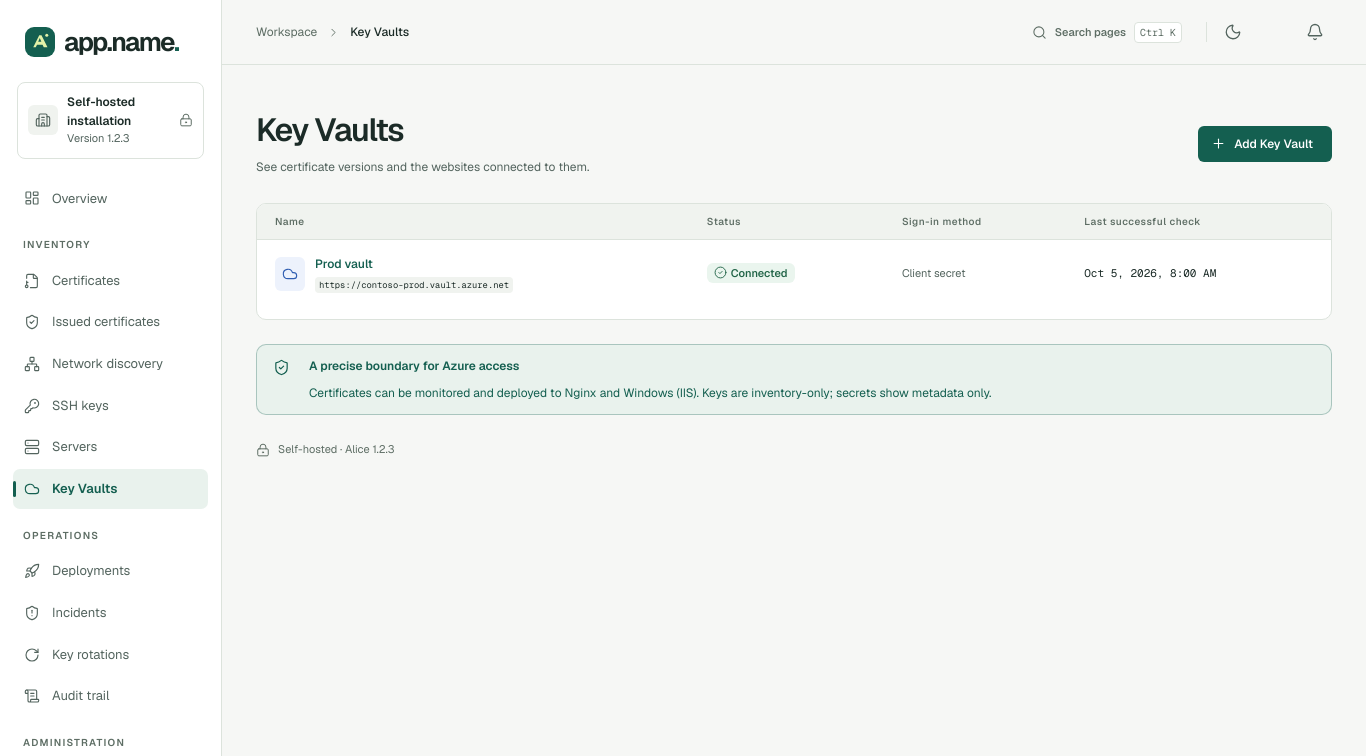
KeyVaultsPage › opens the add dialog and the new vault page after adding
Click the button "Add Key Vault": (1265, 144) top-left (1198, 126), bottom-right (1332, 162)
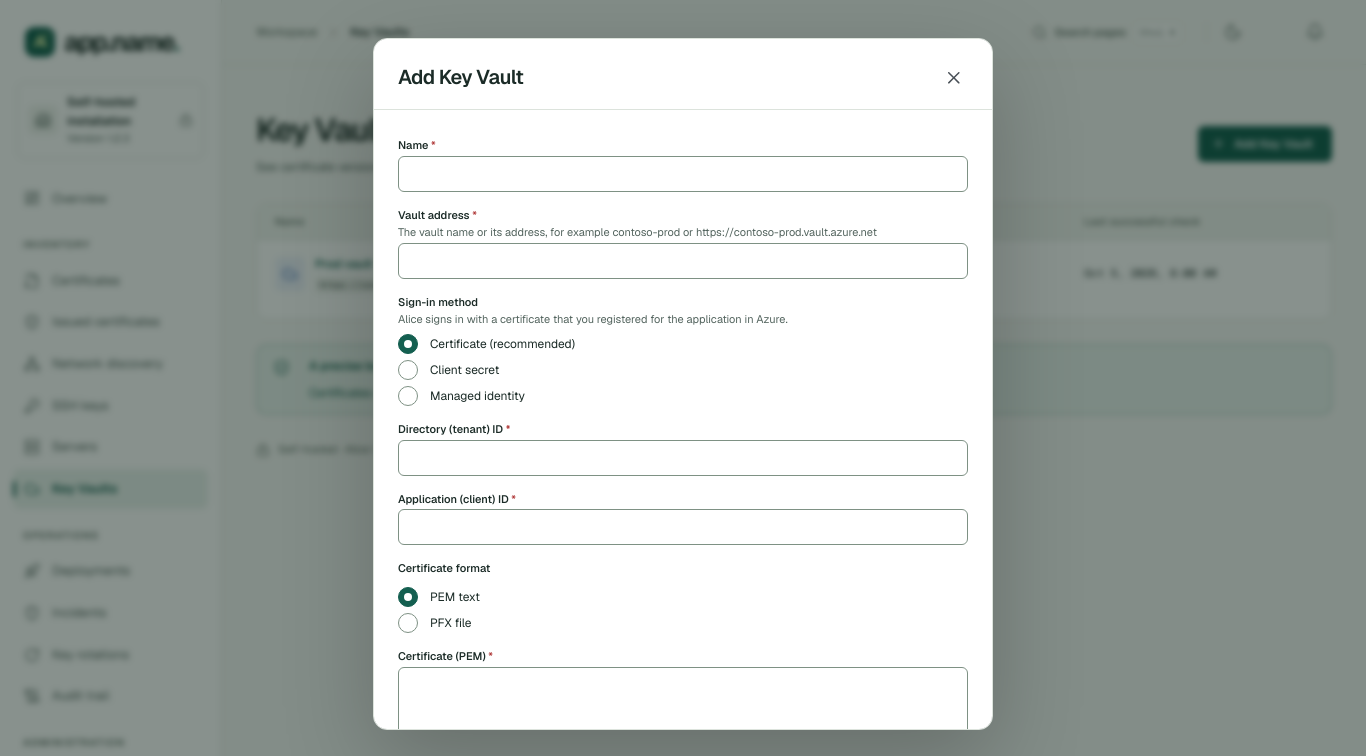
In the field labelled "Name *": (683, 174) top-left (398, 156), bottom-right (968, 192), type "Prod vault"
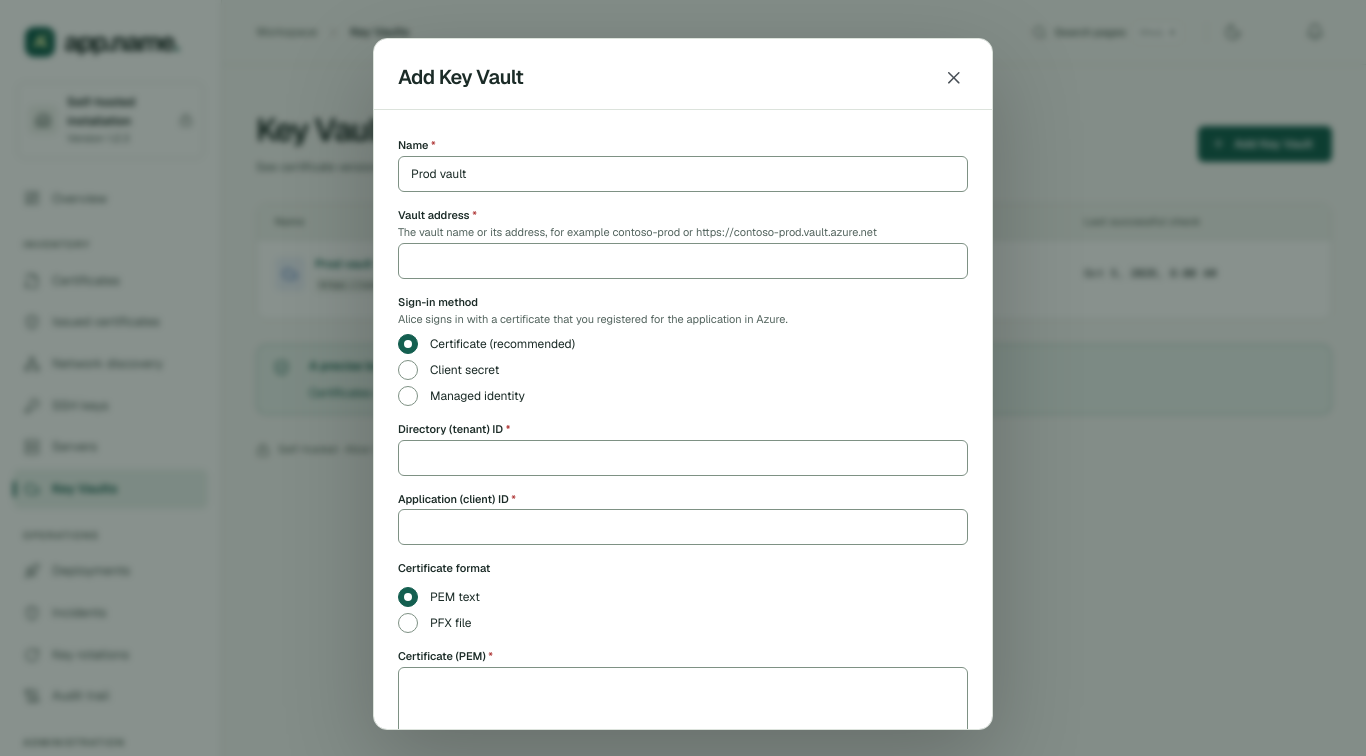
In the field labelled "Vault address *": (683, 261) top-left (398, 243), bottom-right (968, 279), type "contoso-prod"
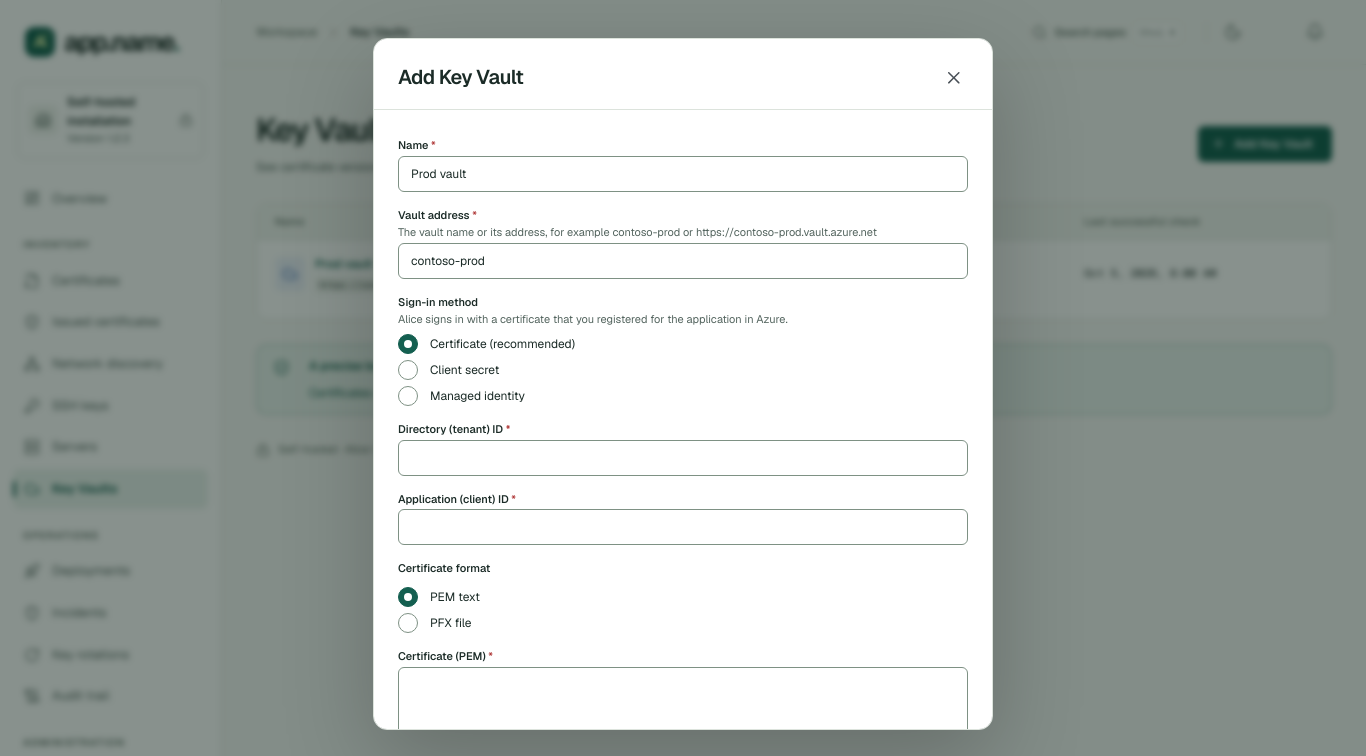
Click the radio button labelled "Managed identity": (408, 396) top-left (398, 386), bottom-right (418, 406)
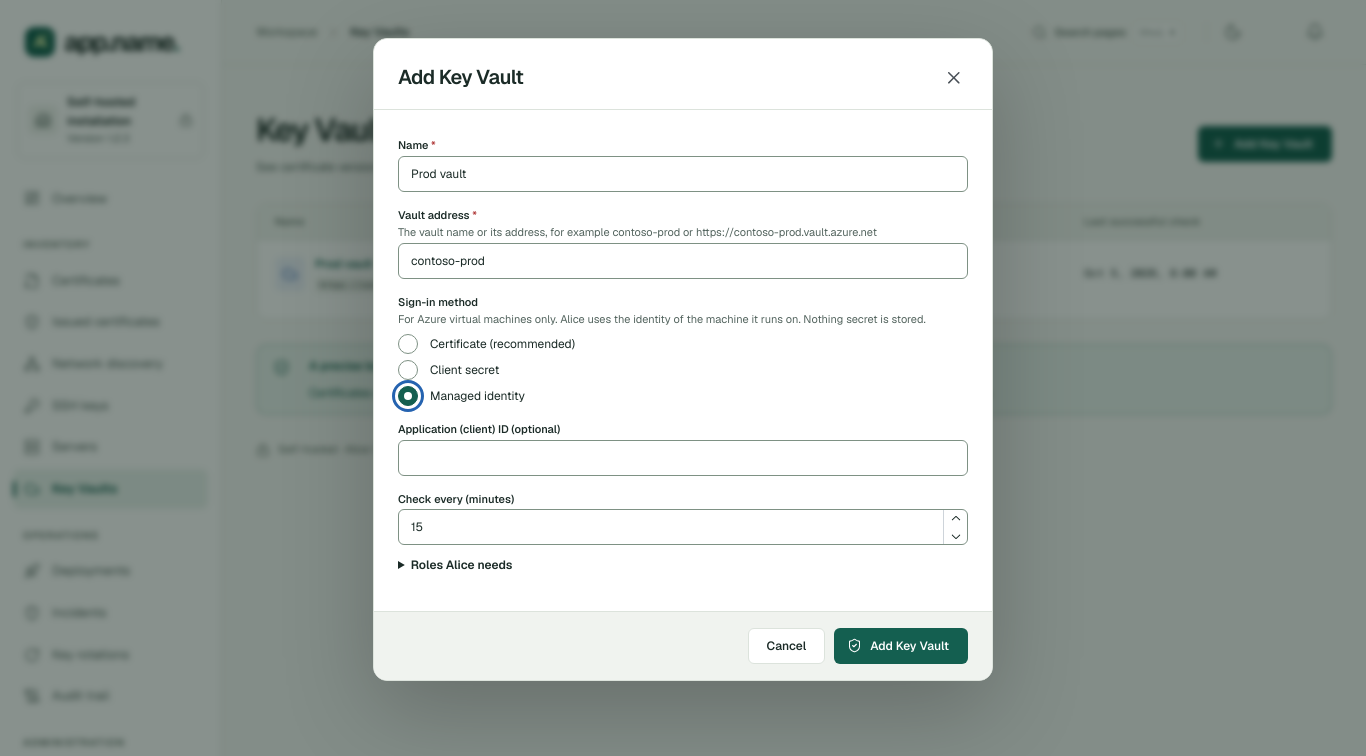
Click the button "Add Key Vault": (901, 646) top-left (834, 628), bottom-right (968, 664)
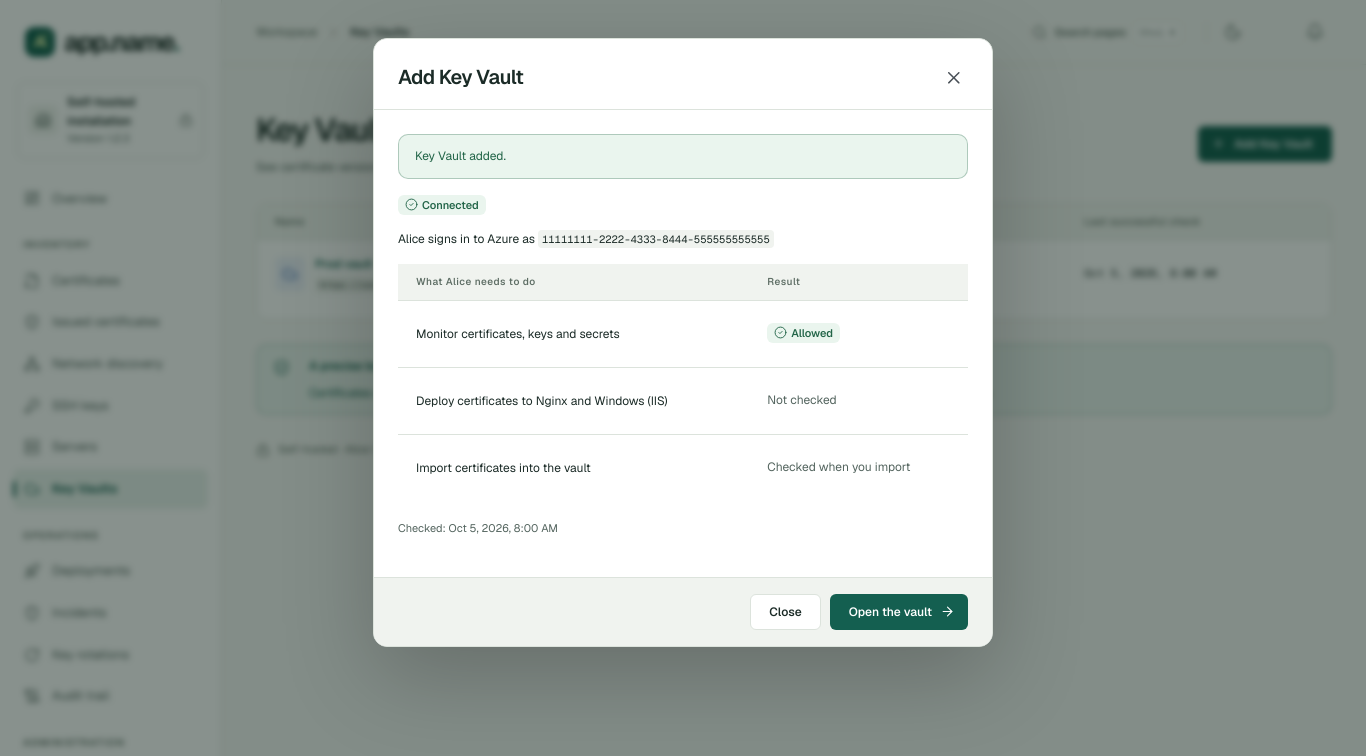
Click the button "Open the vault": (899, 612) top-left (830, 594), bottom-right (968, 630)
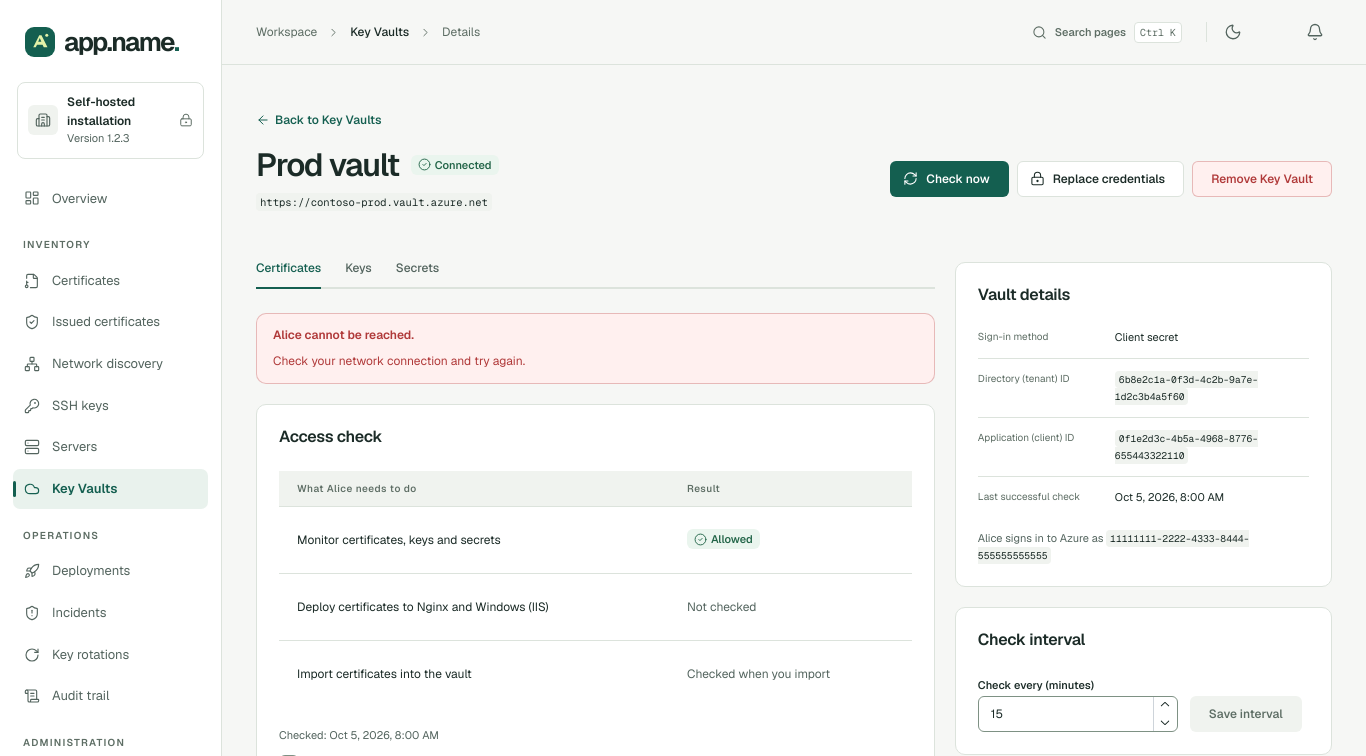
Check: the heading "Prod vault" is shown, box top-left (256, 146), bottom-right (399, 184)
